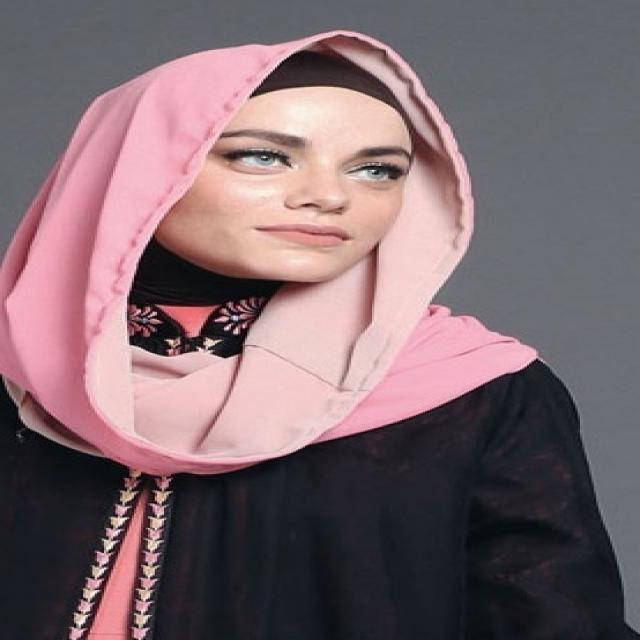head: (87, 37, 467, 293)
